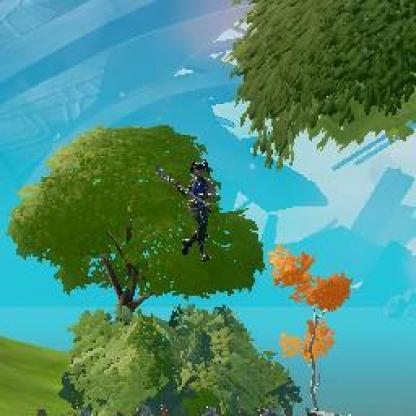dumpster: (172, 159, 216, 263)
